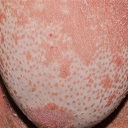Pityriasis Rubra Pilaris: (5, 4, 117, 123)
